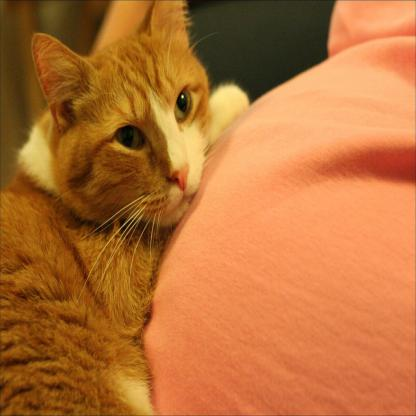Dog: (19, 0, 220, 300)
